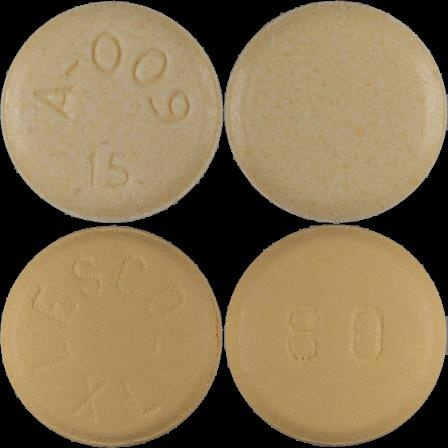68151-4461: (0, 0, 224, 224)
